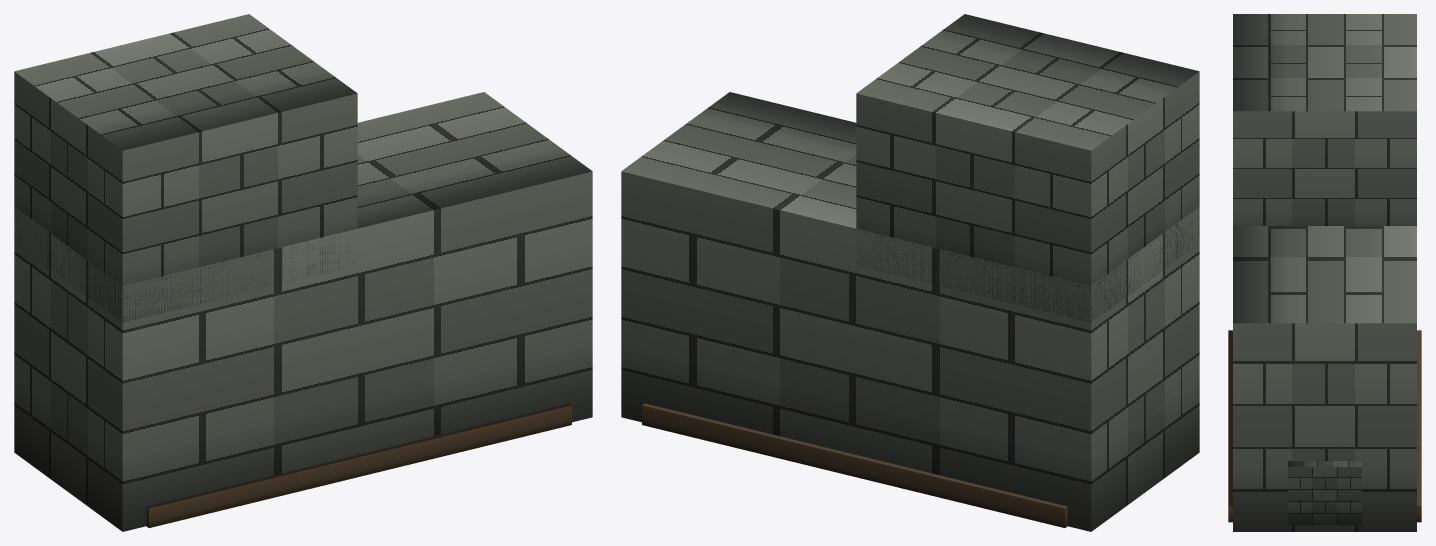
Rendered from wall_ruined.gltf.
3 renders of one model, left to right at view 1: azimuth 30°, elevation 25°; view 2: azimuth 150°, elevation 25°; view 3: azimuth 270°, elevation 25°, orthographic. The views are drawn at different scales.
Visible parts, largest first — view 1: wall_ruined; view 2: wall_ruined; view 3: wall_ruined.
Part boxes in pixels (x1=…): wall_ruined: x1=14, y1=14, x2=592, y2=531; wall_ruined: x1=621, y1=14, x2=1199, y2=531; wall_ruined: x1=1228, y1=14, x2=1421, y2=531.
Bounding box in the file's own units: 1.03 × 0.775 × 0.42.
Materials: 1 (1 with a texture image).
